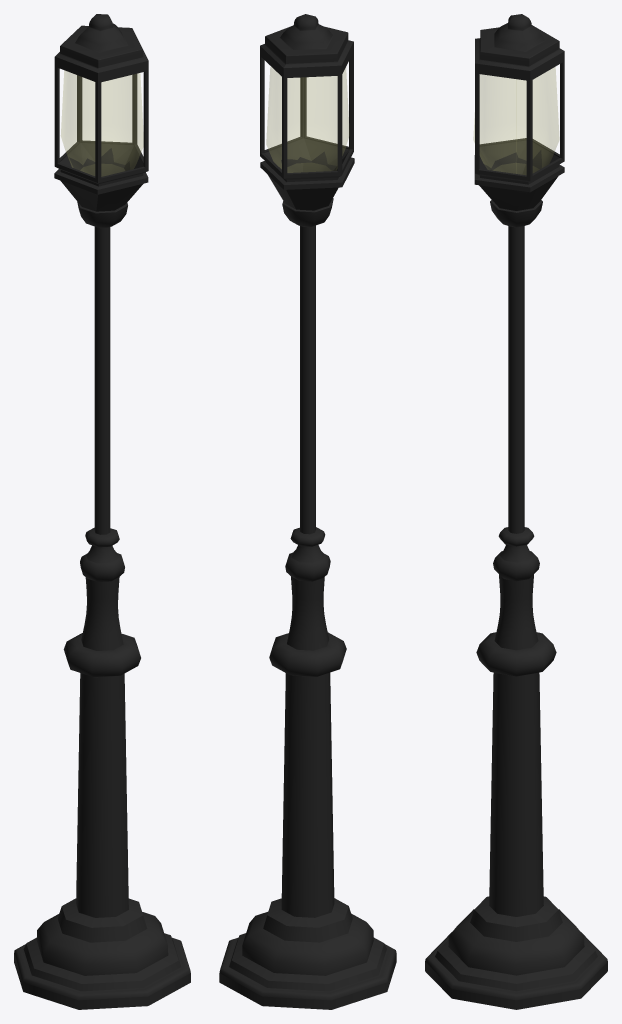
File: NH_StreetLight_Mesh01.fbx
3 views of the same model, side by side, from view 1: azimuth 30°, elevation 25°; view 2: azimuth 150°, elevation 25°; view 3: azimuth 270°, elevation 25° (orthographic).
Visible parts, largest first — view 1: NH_StreetLight_Mesh01; view 2: NH_StreetLight_Mesh01; view 3: NH_StreetLight_Mesh01.
Boxes of the visible parts, <box> form: NH_StreetLight_Mesh01: <box>14,14,190,1009</box>; NH_StreetLight_Mesh01: <box>219,14,396,1009</box>; NH_StreetLight_Mesh01: <box>425,14,607,1009</box>.
Size of the model in its own units: 1.12 by 6.45 by 1.12.
